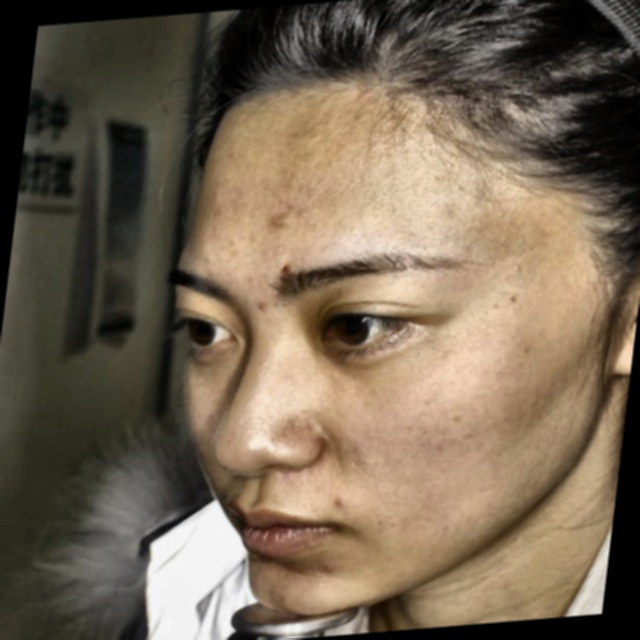comedone: (313, 553, 346, 577), (264, 209, 290, 231), (325, 492, 353, 509), (253, 295, 272, 319)
